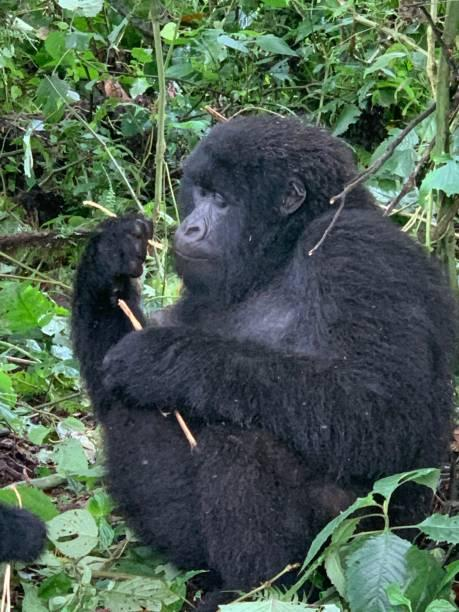goriile_montagne: (65, 109, 452, 582)
